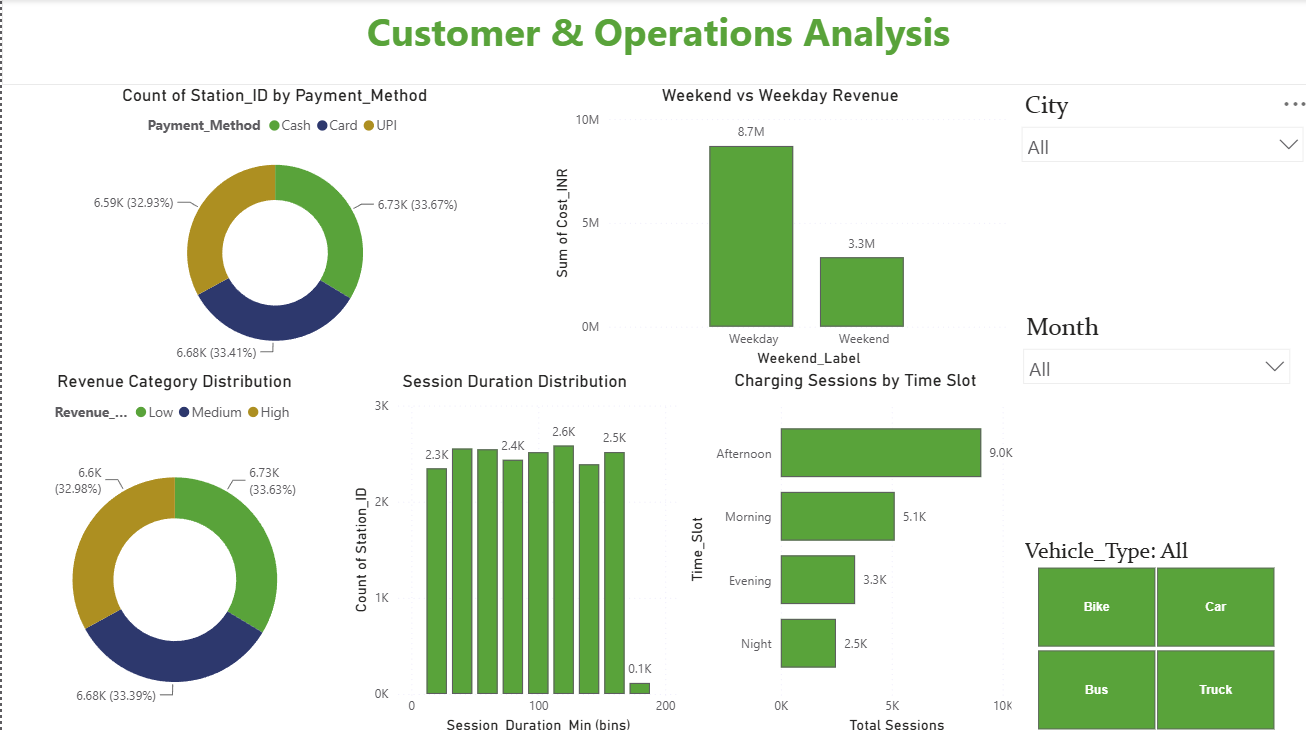

This screenshot's page, from the dashboard's own definition file:
{"tool":"powerbi","page":{"name":"Customer & Operations Analysis.","canvas":[1280,720],"ordinal":1},"visuals":[{"type":"donutChart","fields":{"Category":["EV_Charging_Final.Payment_Method"],"Y":["CountNonNull(EV_Charging_Final.Station_ID)"]},"box":[0,83.3,531.5,278.6],"z":0},{"type":"clusteredColumnChart","title":"Weekend vs Weekday Revenue","fields":{"Category":["EV_Charging_Final.Weekend_Label"],"Y":["Sum(EV_Charging_Final.Cost_INR)"]},"box":[531.5,83.3,452.7,278.6],"z":1},{"type":"donutChart","title":"Revenue Category Distribution","fields":{"Category":["EV_Charging_Final.Revenue_Category"],"Y":["CountNonNull(EV_Charging_Final.Station_ID)"]},"box":[0,361.9,336.2,357.4],"z":2},{"type":"clusteredColumnChart","title":"Session Duration Distribution","fields":{"Y":["CountNonNull(EV_Charging_Final.Station_ID)"],"Category":["EV_Charging_Final.Session_Duration_Min (bins)"]},"box":[336.2,361.9,327.1,357.4],"z":3},{"type":"barChart","title":"Charging Sessions by Time Slot","fields":{"Category":["EV_Charging_Final.Time_Slot"],"Y":["EV_Charging_Final.Total Sessions"]},"box":[663.2,360.4,336.2,358.9],"z":4},{"type":"slicer","fields":{"Values":["EV_Charging_Final.City"]},"box":[984.2,83.3,295.3,216.5],"z":5},{"type":"slicer","fields":{"Values":["EV_Charging_Final.Month"]},"box":[985.7,299.8,280.1,219.6],"z":6},{"type":"slicer","fields":{"Values":["EV_Charging_Final.Vehicle_Type"]},"box":[984.2,519.4,280.1,199.9],"z":7},{"type":"textbox","box":[0,0,1279.5,83.3],"z":8}]}

Visuals, with their boxes in screenshot pixels (x1, y1, x2, y2), scaled from the page's 1280x720 canvas onto the 1306x730 screenshot:
donutChart - EV_Charging_Final.Payment_Method x CountNonNull(EV_Charging_Final.Station_ID): [left=0, top=84, right=542, bottom=367]
"Weekend vs Weekday Revenue" clusteredColumnChart: [left=542, top=84, right=1004, bottom=367]
"Revenue Category Distribution" donutChart: [left=0, top=367, right=343, bottom=729]
"Session Duration Distribution" clusteredColumnChart: [left=343, top=367, right=677, bottom=729]
"Charging Sessions by Time Slot" barChart: [left=677, top=365, right=1020, bottom=729]
slicer - EV_Charging_Final.City: [left=1004, top=84, right=1305, bottom=304]
slicer - EV_Charging_Final.Month: [left=1006, top=304, right=1292, bottom=527]
slicer - EV_Charging_Final.Vehicle_Type: [left=1004, top=527, right=1290, bottom=729]
textbox: [left=0, top=0, right=1305, bottom=84]
